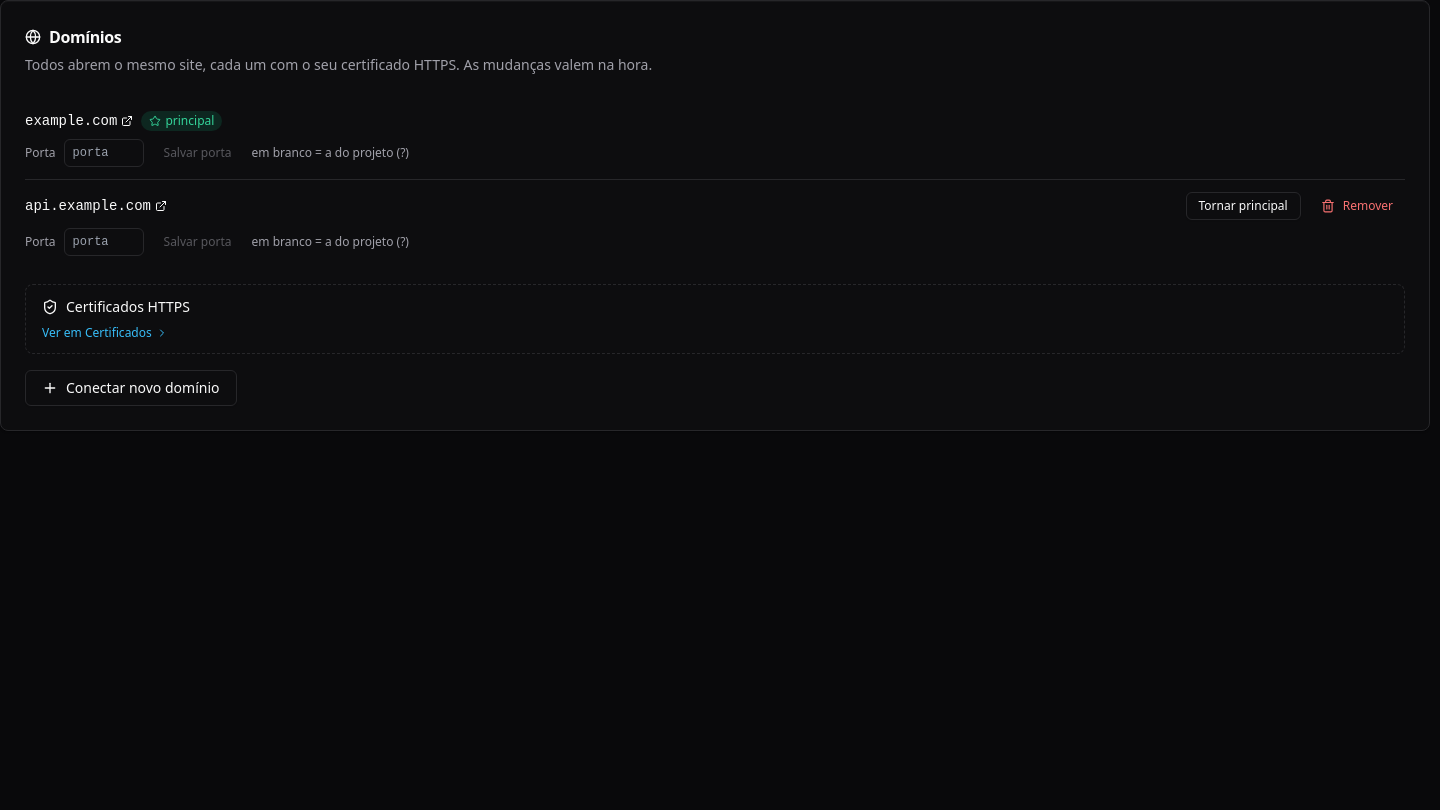
Test: subdomínio só com o rótulo › nome completo que já termina no pai não é duplicado
The image size is (1440, 810).
Click the button "Conectar novo domínio" at (131, 388), box [25, 370, 236, 406]
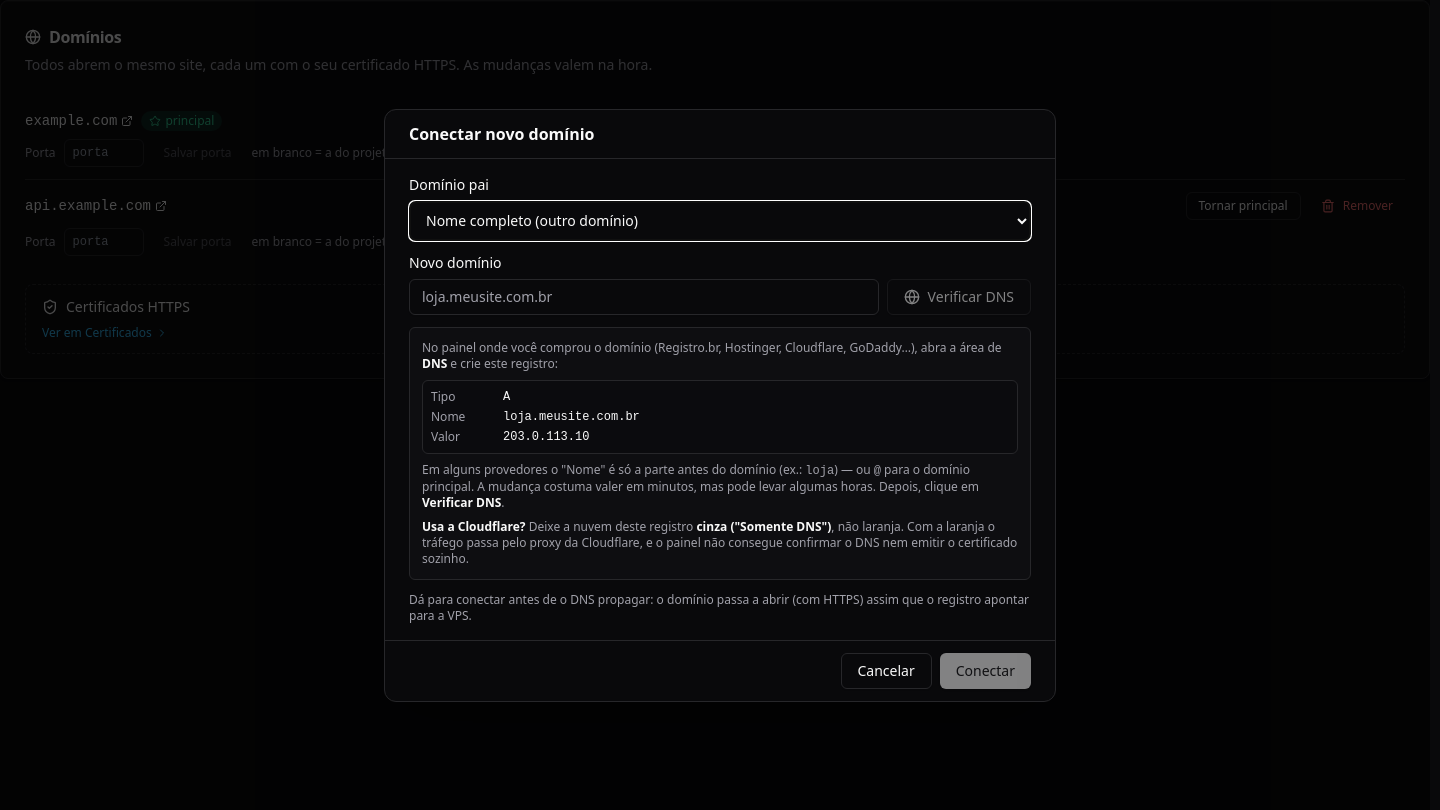
Check: the dialog with test id "modal-panel" is shown, box [384, 108, 1056, 702]
Select "example.com" in the dropdown labelled "Domínio pai" at (720, 220), box [409, 200, 1031, 240]
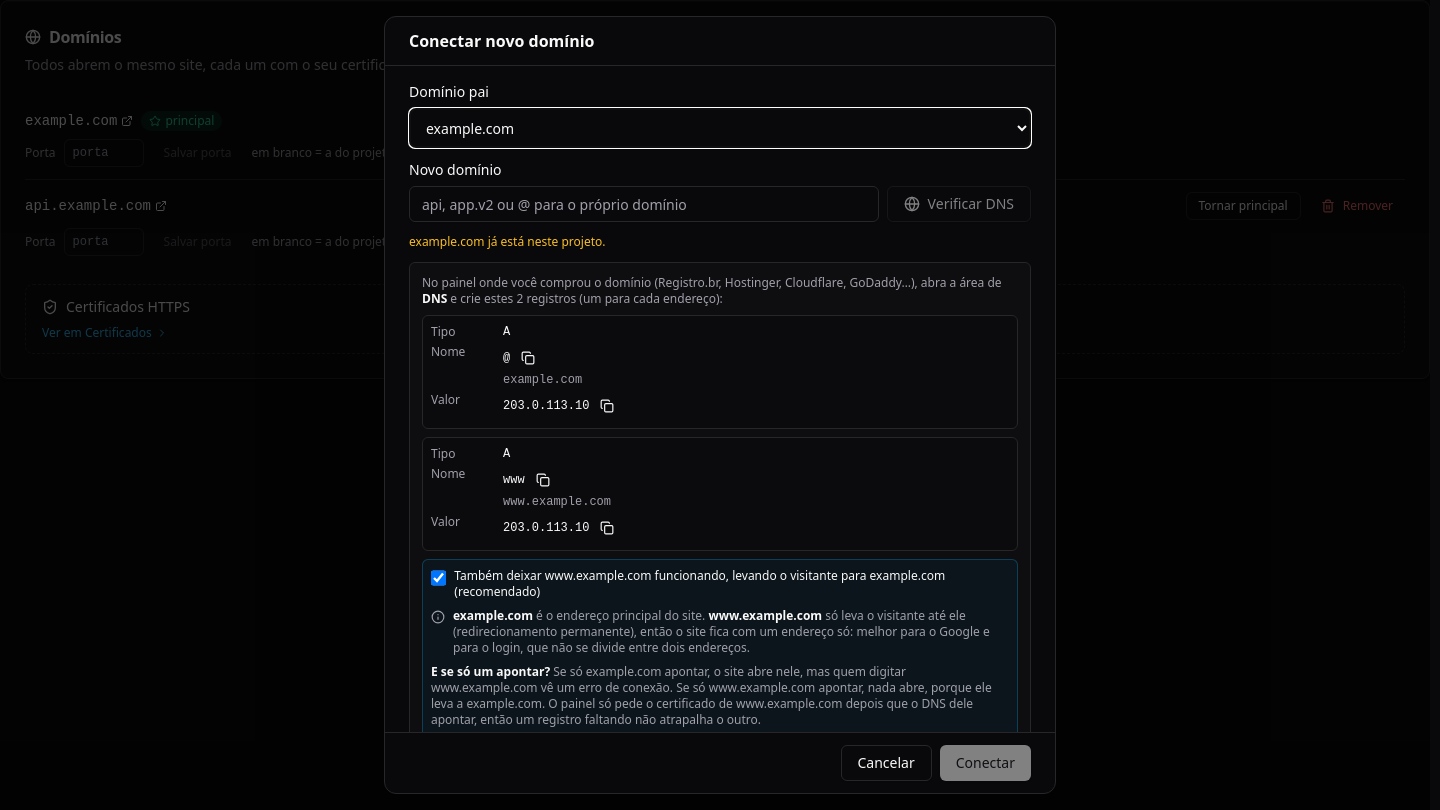
Type "https://Blog.example.com/" into the field labelled "Novo domínio Verificar DNS" at (644, 204), box [409, 186, 879, 222]
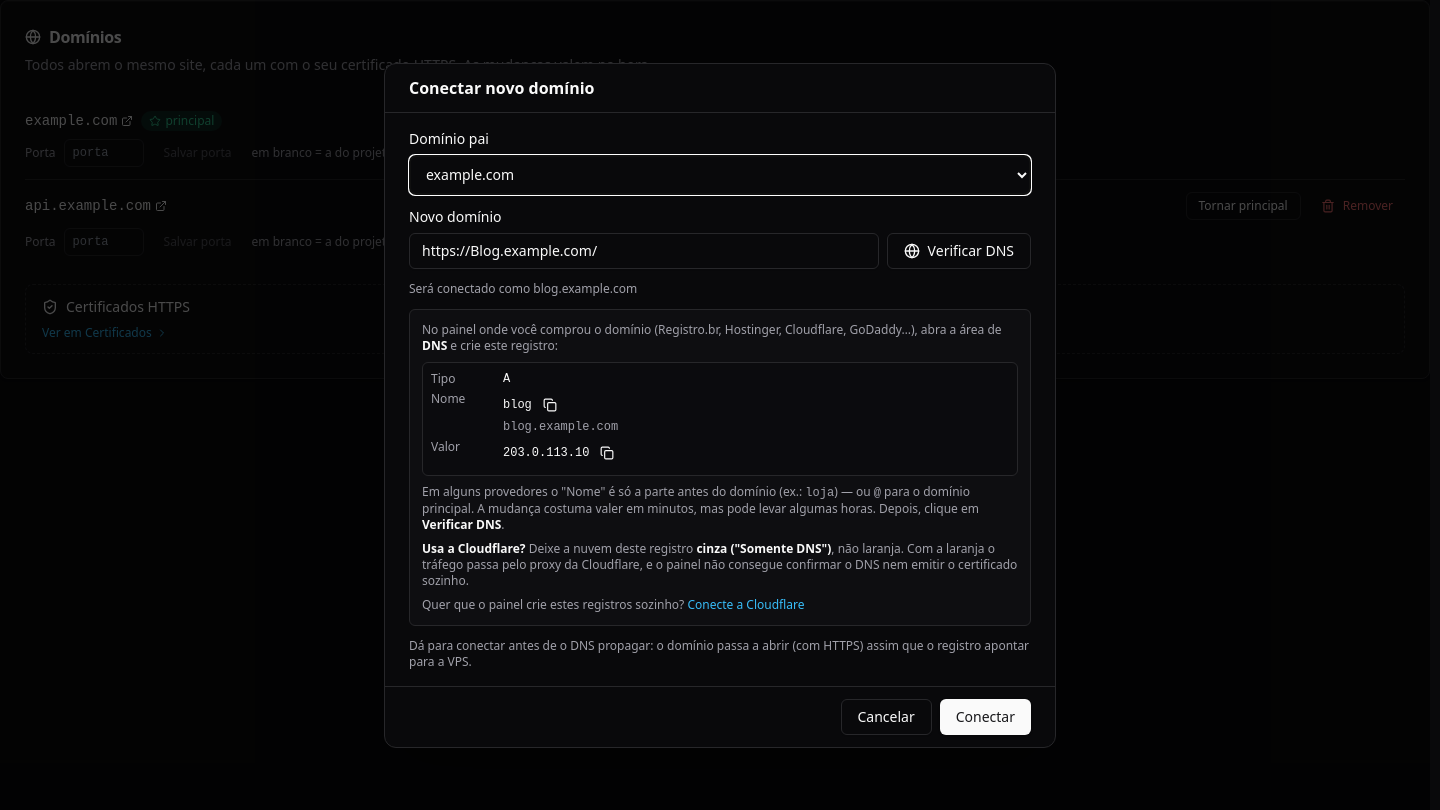
Check: the text with test id "domain-preview" shows "blog.example.com", box [409, 280, 637, 296]
